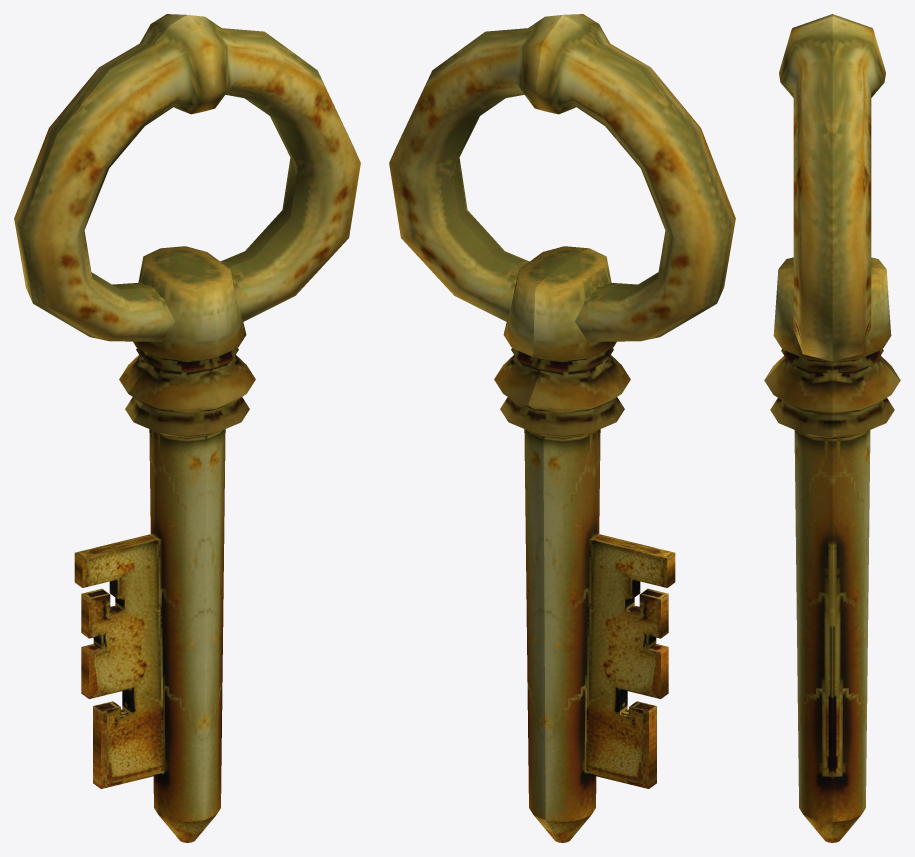
Rendered from key2.FBX.
3 views of the same model, side by side, from view 1: azimuth 30°, elevation 25°; view 2: azimuth 150°, elevation 25°; view 3: azimuth 270°, elevation 25° (orthographic).
Visible parts, largest first — view 1: key2; view 2: key2; view 3: key2.
Part boxes in pixels (<box>): key2: <box>14,14,360,842</box>; key2: <box>389,14,735,842</box>; key2: <box>764,14,900,842</box>.
Size of the model in its own units: 6.27 by 14.82 by 2.22.
Materials: 1 (1 with a texture image).
